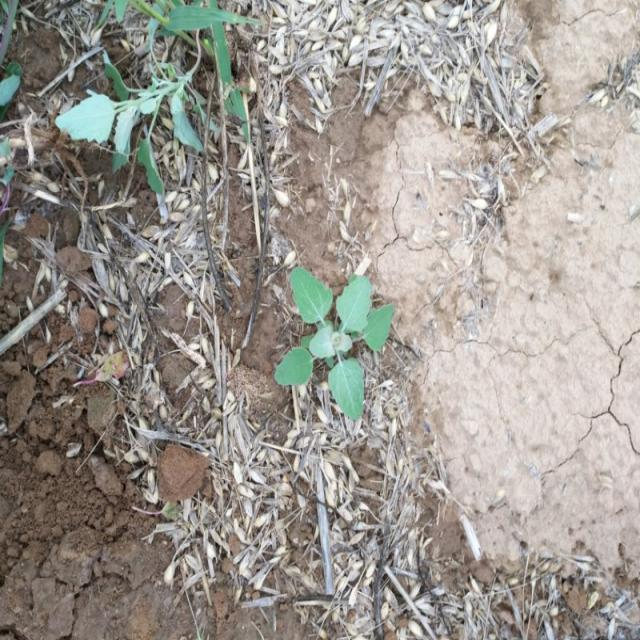goosefoots: (260, 250, 390, 402)
